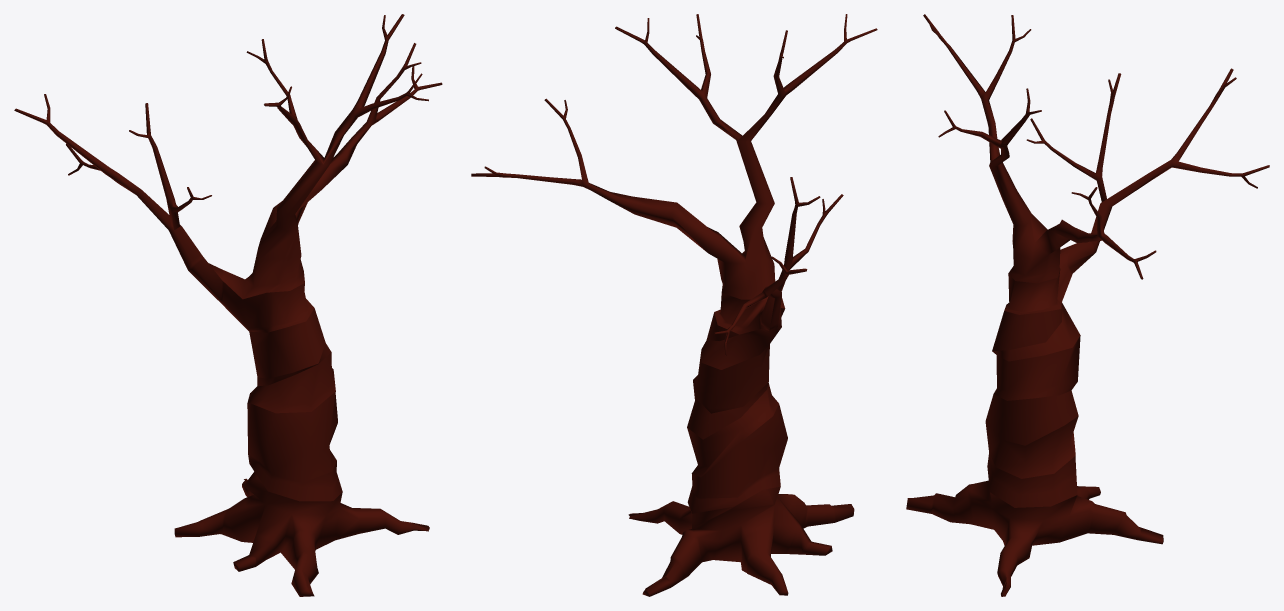
The model's file is HWN20_Tree_05.glb.
The picture shows the model from 3 angles, left to right: view 1: azimuth 30°, elevation 25°; view 2: azimuth 150°, elevation 25°; view 3: azimuth 270°, elevation 25°; orthographic projection. The views are drawn at different scales.
Visible parts, largest first — view 1: HWN20_Tree_05; view 2: HWN20_Tree_05; view 3: HWN20_Tree_05.
Boxes of the visible parts, <box> form: HWN20_Tree_05: <box>14,14,442,596</box>; HWN20_Tree_05: <box>471,14,877,596</box>; HWN20_Tree_05: <box>906,14,1269,596</box>.
Size of what is drawn, in the model's own units: 3.7 by 4.89 by 3.18.
Materials: 1 (1 with a texture image).
